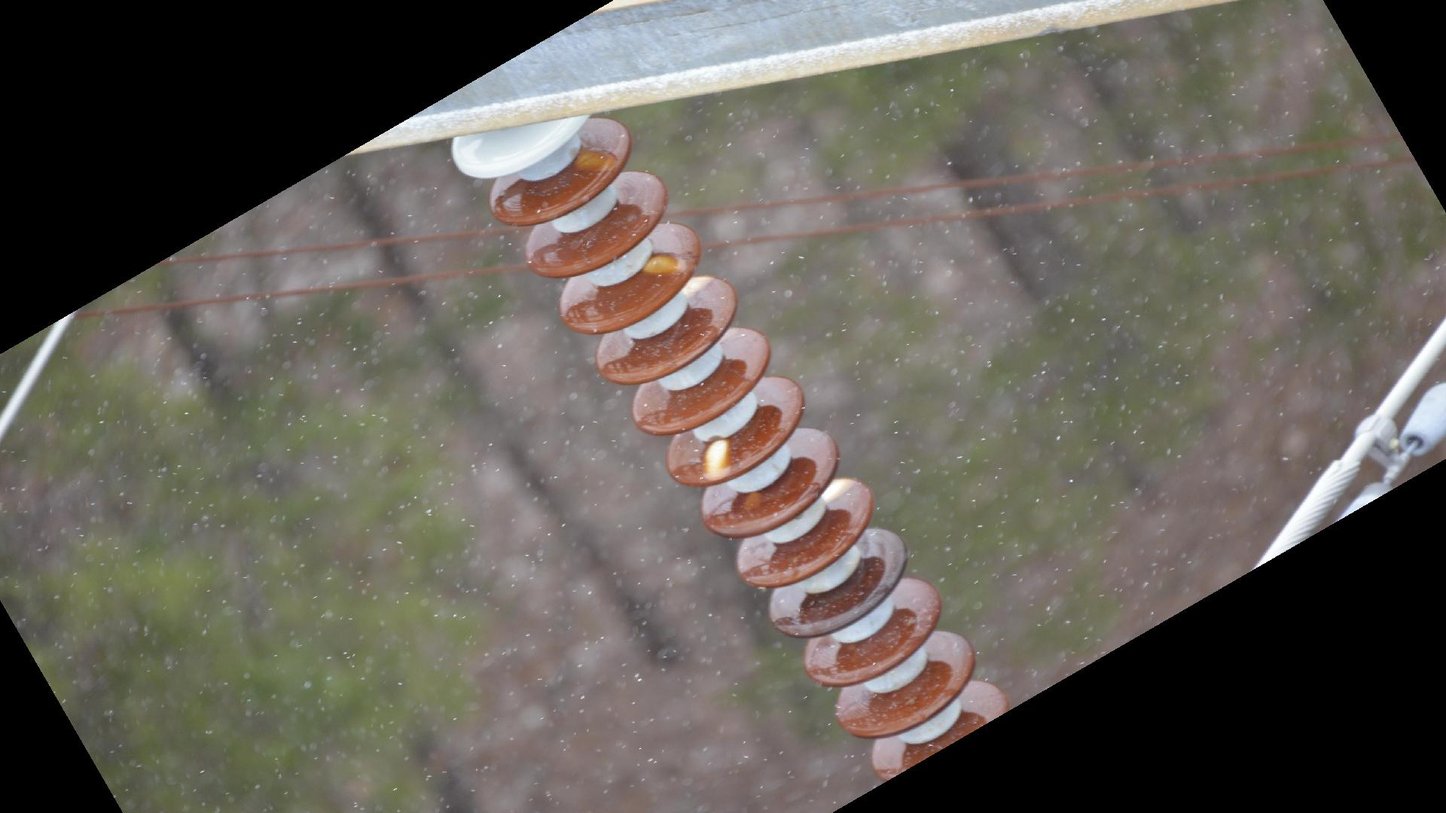insulator: (484, 114, 1017, 793)
insulator_flashover: (698, 436, 734, 484), (572, 145, 620, 176), (641, 250, 690, 280), (819, 475, 857, 507)
